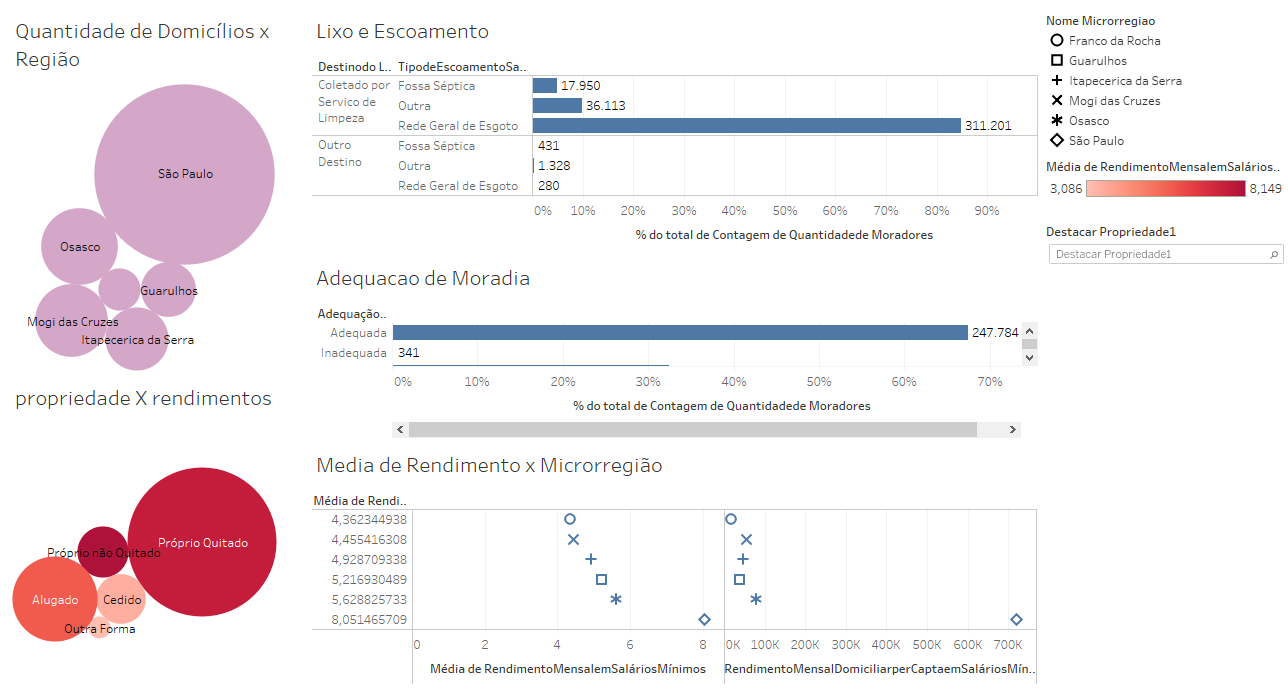

The page's visual inventory and layout, read from the dashboard file:
{"tool":"tableau","page":{"name":"Região com Menos Condições Econômicas","canvas":[1300,700],"ordinal":0},"visuals":[{"type":"worksheet","title":"Quantidade de Domicilios x Regiao","mark":"Circle","box":[8,8,301.5,367]},{"type":"worksheet","title":"Lixo e Escoamento","mark":"Automatic","rows":["DestinodoLixo","TipodeEscoamentoSanitário"],"cols":["QuantidadedeMoradores"],"box":[309.5,8,733.5,247]},{"type":"legend","title":"Media de Rendimento x Microrregião","param":"[federated.00x7x751m9ag9c12wtu0t02c5b1i].[none:NomeMicrorregiao:nk]","box":[1043,8,249,146]},{"type":"legend","title":"propriedade X rendimentos","param":"[federated.00x7x751m9ag9c12wtu0t02c5b1i].[avg:RendimentoMensalemSaláriosMínimos:","box":[1043,154,249,65]},{"type":"highlighter","title":"propriedade X rendimentos","param":"[federated.00x7x751m9ag9c12wtu0t02c5b1i].[none:Propriedade:nk]","box":[1043,219,249,52]},{"type":"worksheet","title":"Adequacao de Moradia","mark":"Automatic","rows":["AdequaçãodaMoradia"],"cols":["QuantidadedeMoradores"],"box":[309.5,255,733.5,187]},{"type":"worksheet","title":"propriedade X rendimentos","mark":"Circle","box":[8,375,301.5,317]},{"type":"worksheet","title":"Media de Rendimento x Microrregião","mark":"Shape","rows":["RendimentoMensalemSaláriosMínimos"],"cols":["RendimentoMensalemSaláriosMínimos","RendimentoMensalDomiciliarperCaptaemSaláriosMínimos"],"box":[309.5,442,733.5,250]}]}

Visuals, with their boxes in screenshot pixels (x1, y1, x2, y2), scaled from the page's 1300x700 canvas onto the 1288x698 screenshot:
"Quantidade de Domicilios x Regiao" worksheet (Circle marks): crop(8, 8, 307, 374)
"Lixo e Escoamento" worksheet: crop(307, 8, 1033, 254)
"Media de Rendimento x Microrregião" legend: crop(1033, 8, 1280, 154)
"propriedade X rendimentos" legend: crop(1033, 154, 1280, 218)
"propriedade X rendimentos" highlighter: crop(1033, 218, 1280, 270)
"Adequacao de Moradia" worksheet: crop(307, 254, 1033, 441)
"propriedade X rendimentos" worksheet (Circle marks): crop(8, 374, 307, 690)
"Media de Rendimento x Microrregião" worksheet (Shape marks): crop(307, 441, 1033, 690)
